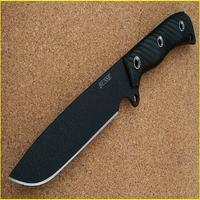knife: (8, 15, 194, 188)
